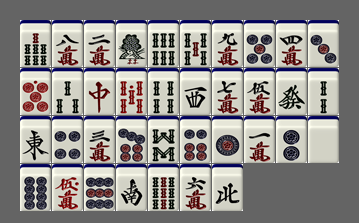0m: (52, 164, 83, 211)
0p: (20, 68, 51, 115)
0s: (116, 68, 147, 115)
1m: (244, 116, 275, 163)
1p: (212, 116, 243, 163)
1s: (116, 20, 147, 67)
1z: (20, 116, 51, 163)
2m: (84, 20, 115, 67)
2p: (276, 116, 307, 163)
2s: (308, 68, 339, 115)
2z: (116, 164, 147, 211)
3m: (84, 116, 115, 163)
3p: (308, 20, 339, 67)
3s: (52, 68, 83, 115)
3z: (180, 68, 211, 115)
4m: (276, 20, 307, 67)
4p: (52, 116, 83, 163)
4s: (148, 68, 179, 115)
4z: (212, 164, 243, 211)
5m: (244, 68, 275, 115)
5p: (244, 20, 275, 67)
5s: (180, 20, 211, 67)
5z: (308, 116, 339, 163)
6m: (180, 164, 211, 211)
6p: (180, 116, 211, 163)
6s: (148, 20, 179, 67)
6z: (276, 68, 307, 115)
7m: (212, 68, 243, 115)
7p: (116, 116, 147, 163)
7s: (20, 20, 51, 67)
7z: (84, 68, 115, 115)
8m: (52, 20, 83, 67)
8p: (20, 164, 51, 211)
8s: (148, 116, 179, 163)
9m: (212, 20, 243, 67)
9p: (84, 164, 115, 211)
9s: (148, 164, 179, 211)
